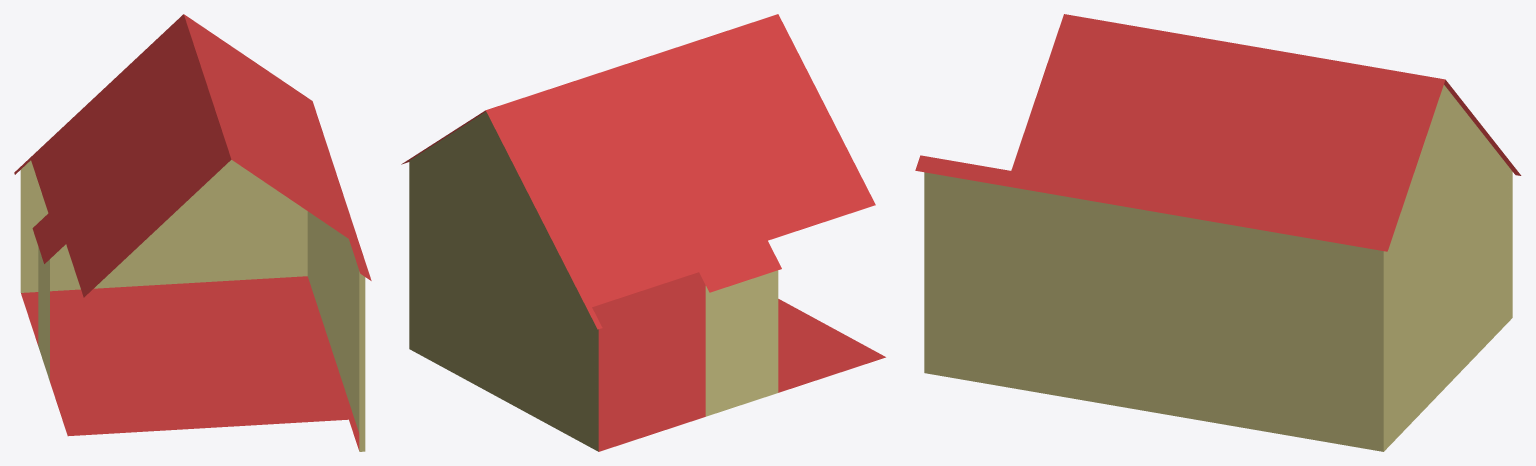
The picture shows the model from 3 angles, left to right: view 1: azimuth 30°, elevation 25°; view 2: azimuth 150°, elevation 25°; view 3: azimuth 270°, elevation 25°; orthographic projection. The views are drawn at different scales.
Size of the model in its own units: 17.38 by 22.01 by 12.65.
